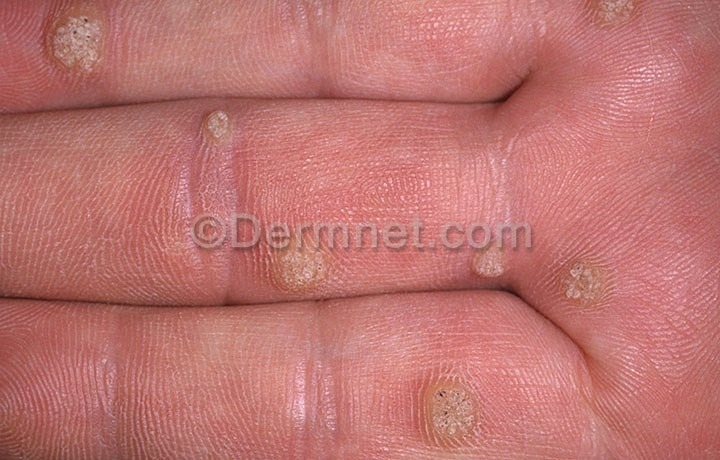Warts: (26, 5, 124, 85), (406, 356, 482, 451), (551, 242, 619, 312), (191, 97, 251, 160)
